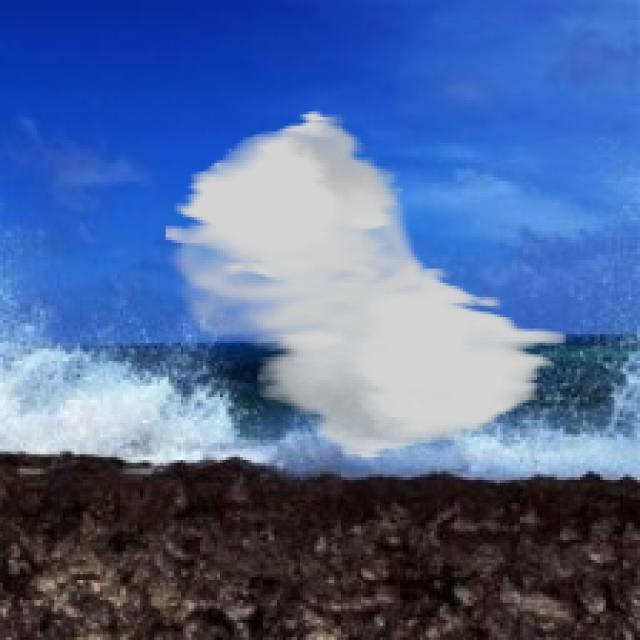Smoke: (163, 108, 566, 460)
